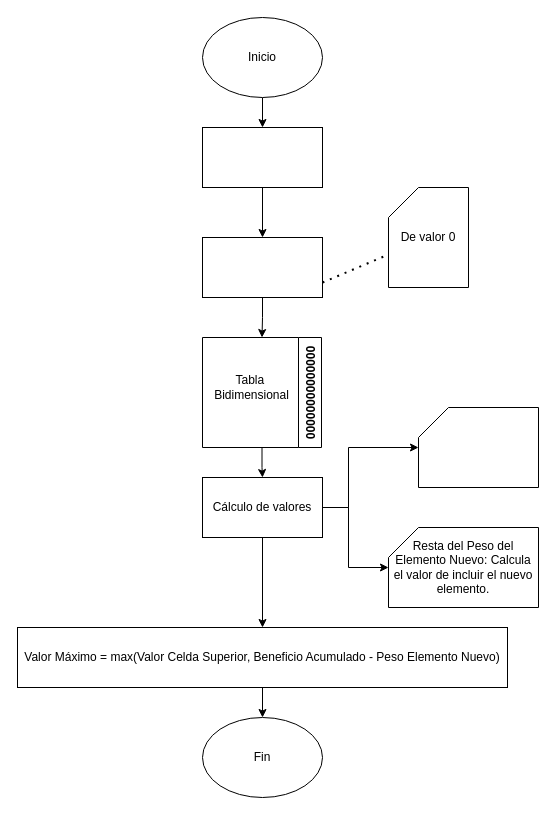
This 556x815 diagram has some shape labels left out. Each missing label, with the centre of its shape:
"Capacidad del camión" belongs at [262,267].
"Celda Superior: Representa la capacidad actual sin el nuevo elemento." belongs at [478,447].
"Ejecución caso 2 y 3" belongs at [262,157].
